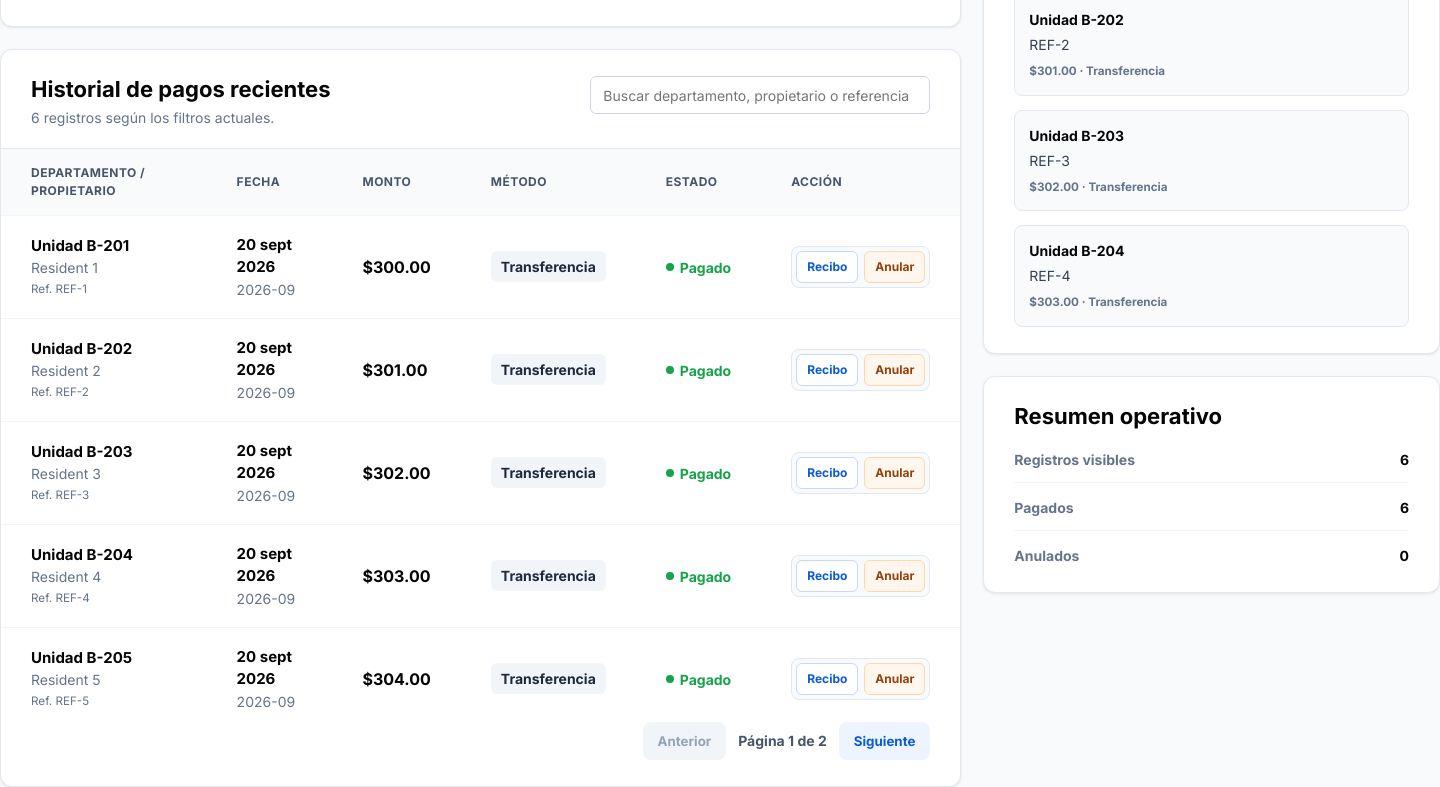
Test case: AdminPaymentsPage › pagina los pagos pendientes y el historial de pagos
(page scrolled)
Expected: the text "Unidad B-201" is shown, left=31, top=236, right=129, bottom=255
Click the button "Siguiente".
click(884, 741)  # box left=839, top=722, right=930, bottom=760
(page scrolled)
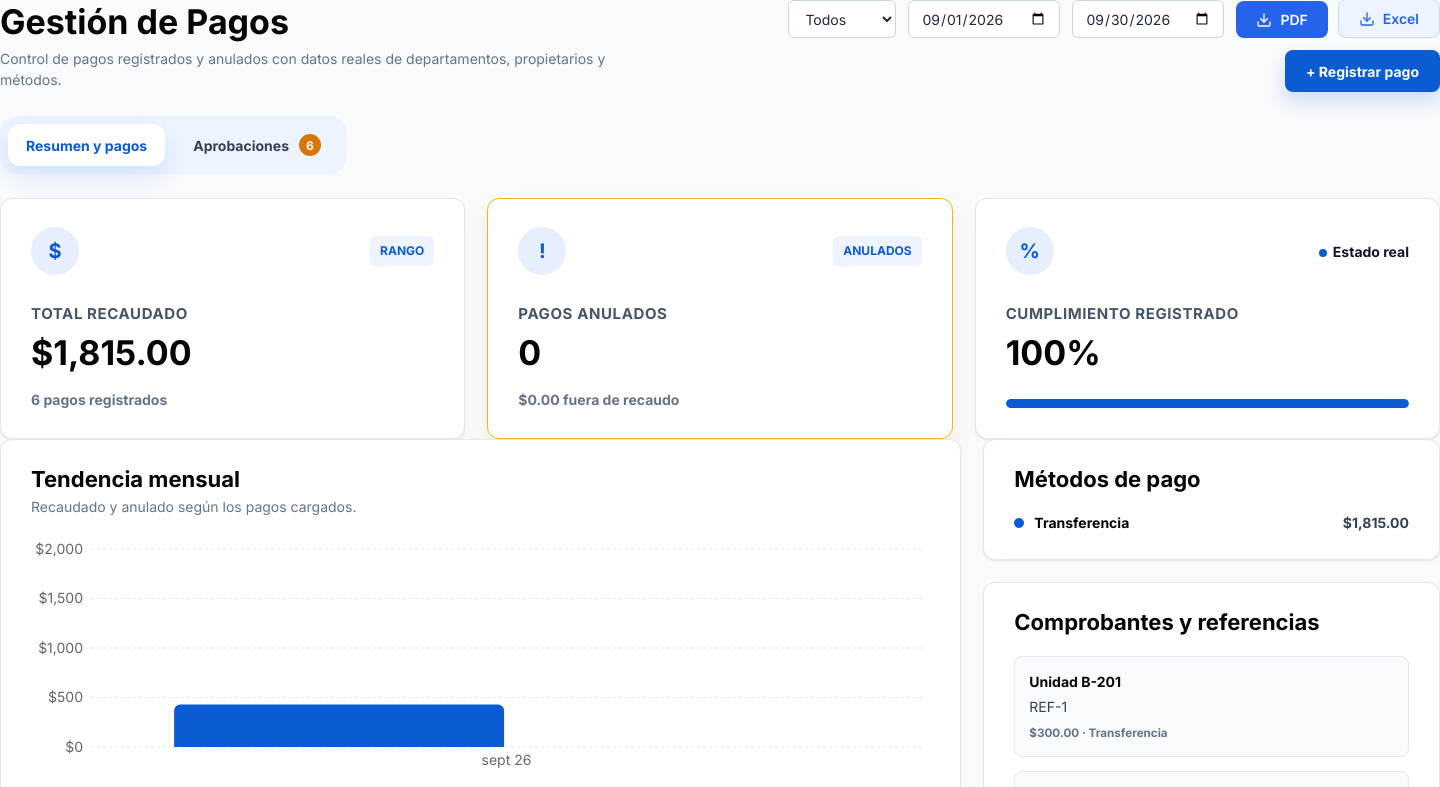
Click the tab "Aprobaciones 6".
click(257, 145)  # box left=175, top=124, right=339, bottom=166
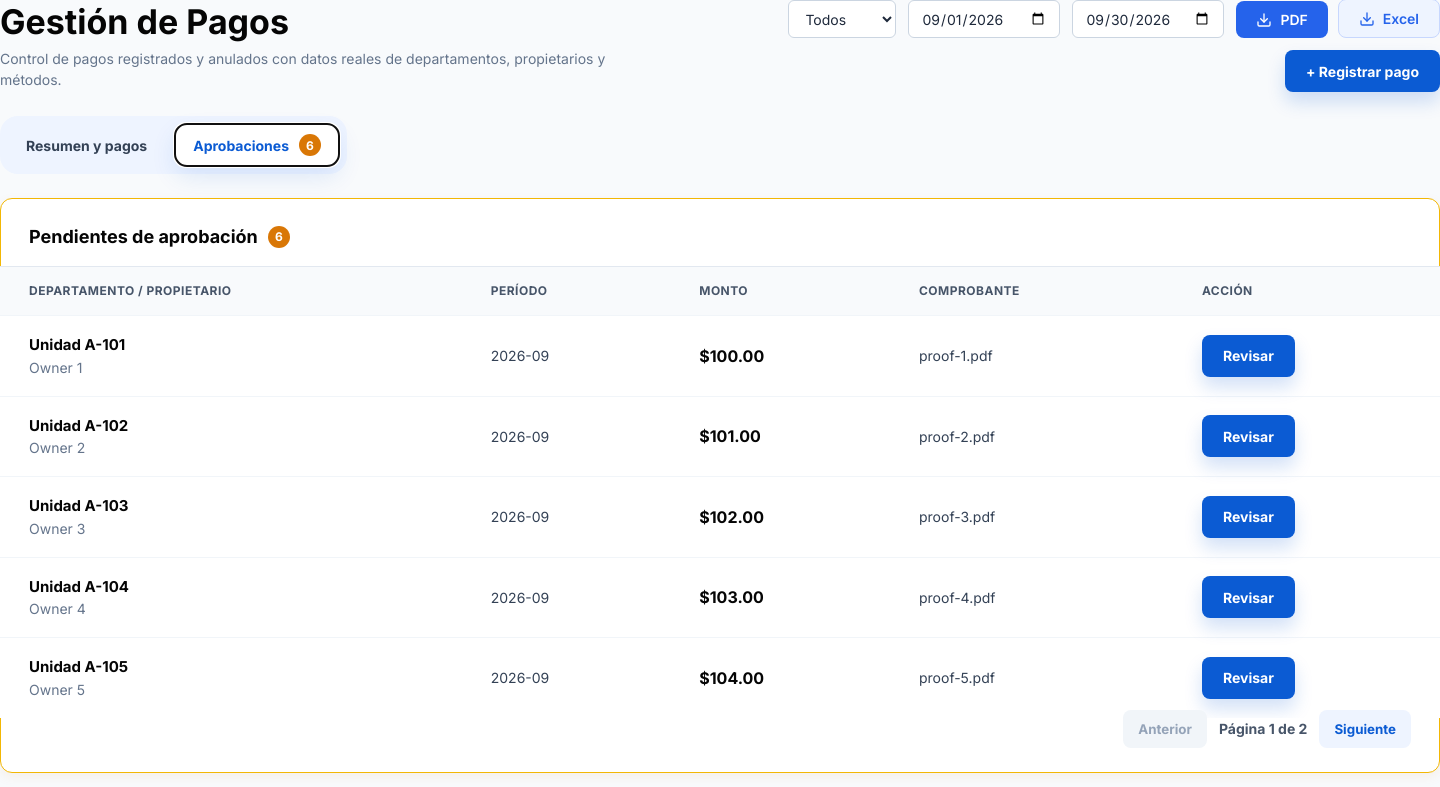
Expected: the text "Unidad A-106" is not shown
Expected: the text "Unidad A-101" is shown, left=29, top=335, right=125, bottom=354
Click the button "Siguiente".
click(1365, 728)  # box left=1319, top=710, right=1411, bottom=748
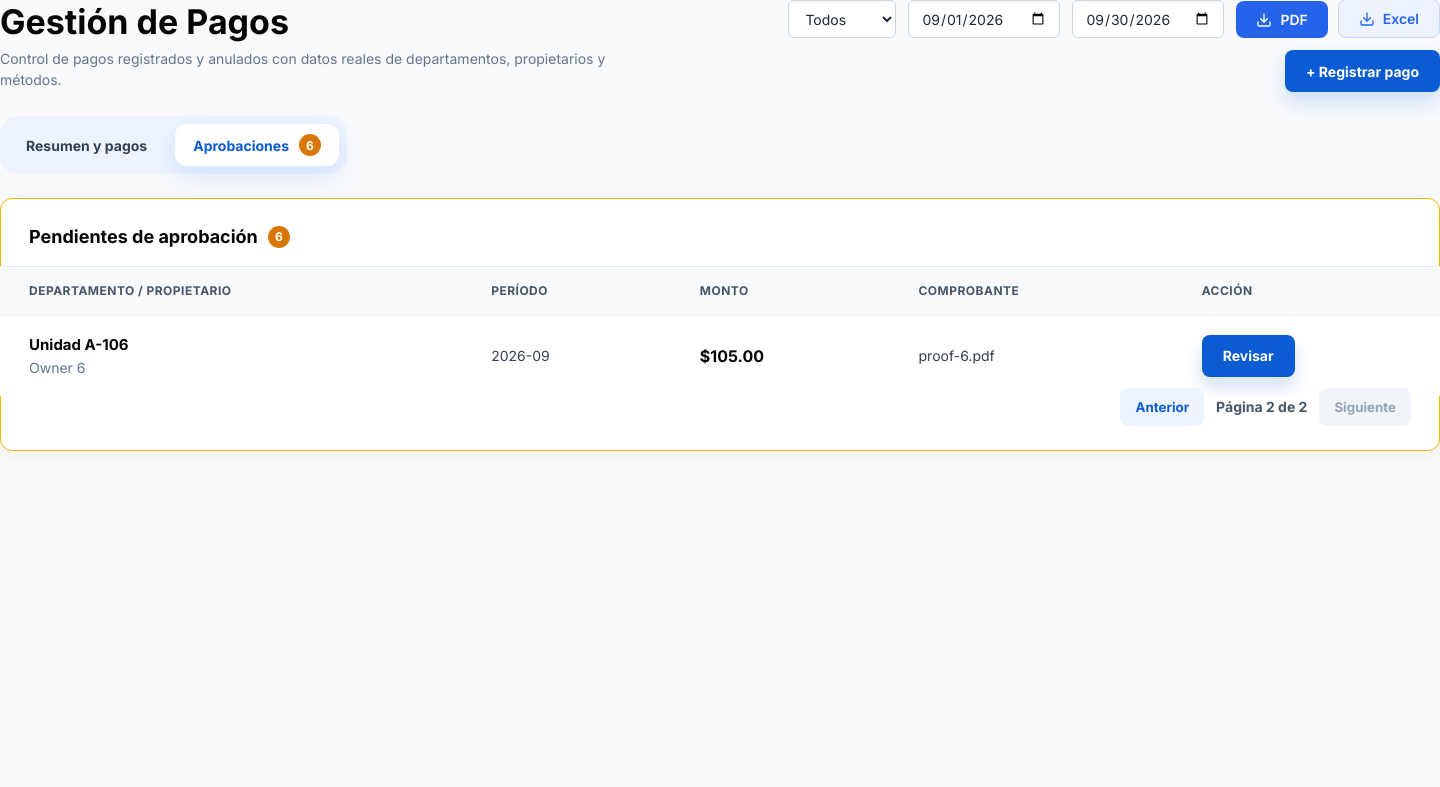
Expected: the text "Unidad A-106" is shown, left=29, top=335, right=129, bottom=354
Expected: the text "Unidad A-101" is gone
